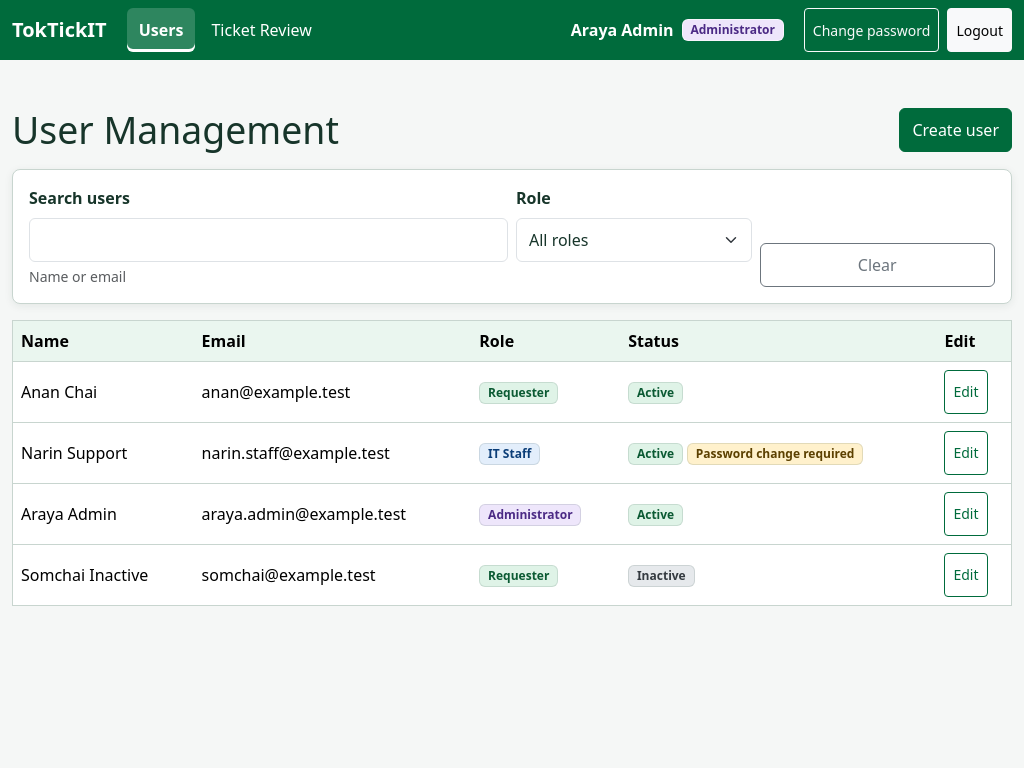
Test case: UI-07 User Management list › sends search and role filters to the API and offers Clear
Expected: the table is shown, [12, 320, 1012, 605]
Type "narin" into the search field labelled "Search users".
click(268, 240); type("narin")  # box [29, 218, 508, 262]
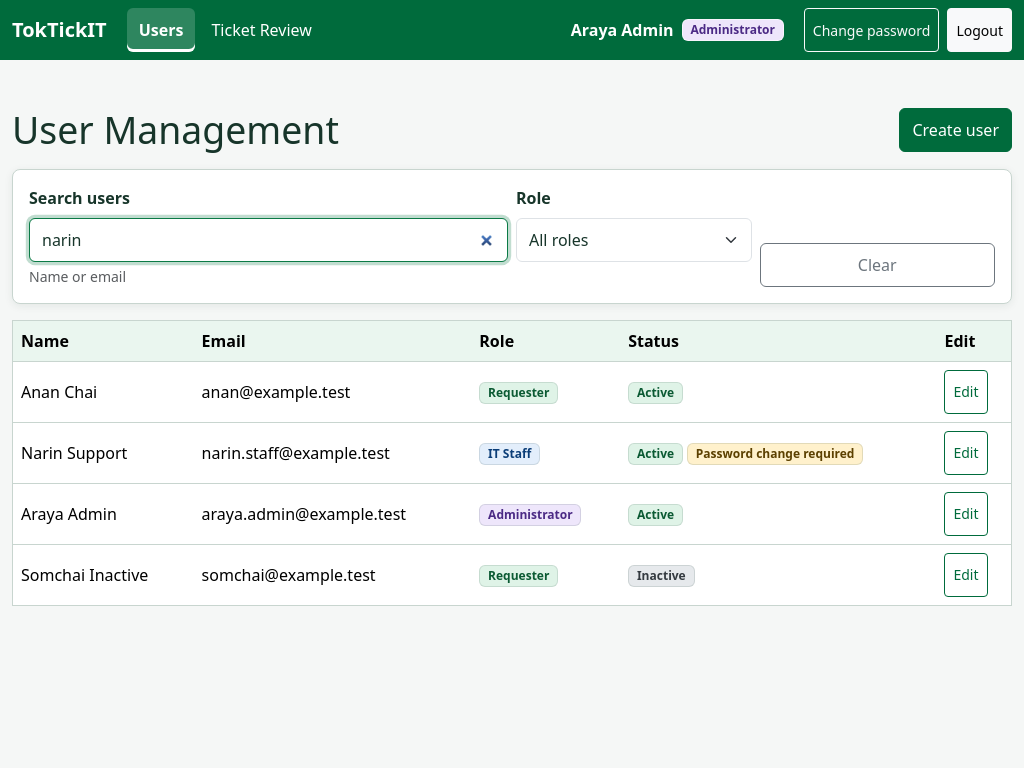
Select "IT Staff" in the dropdown labelled "Role" at (634, 240), box [516, 218, 752, 262]
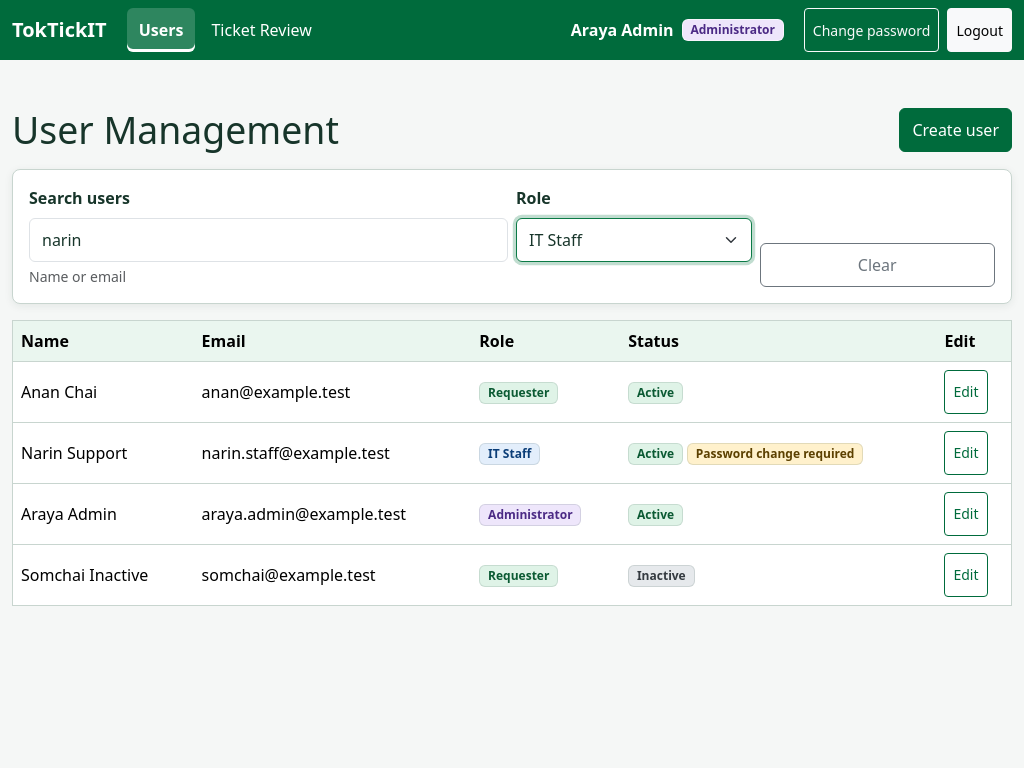
Click the button "Clear".
click(877, 265)  # box [760, 243, 995, 287]
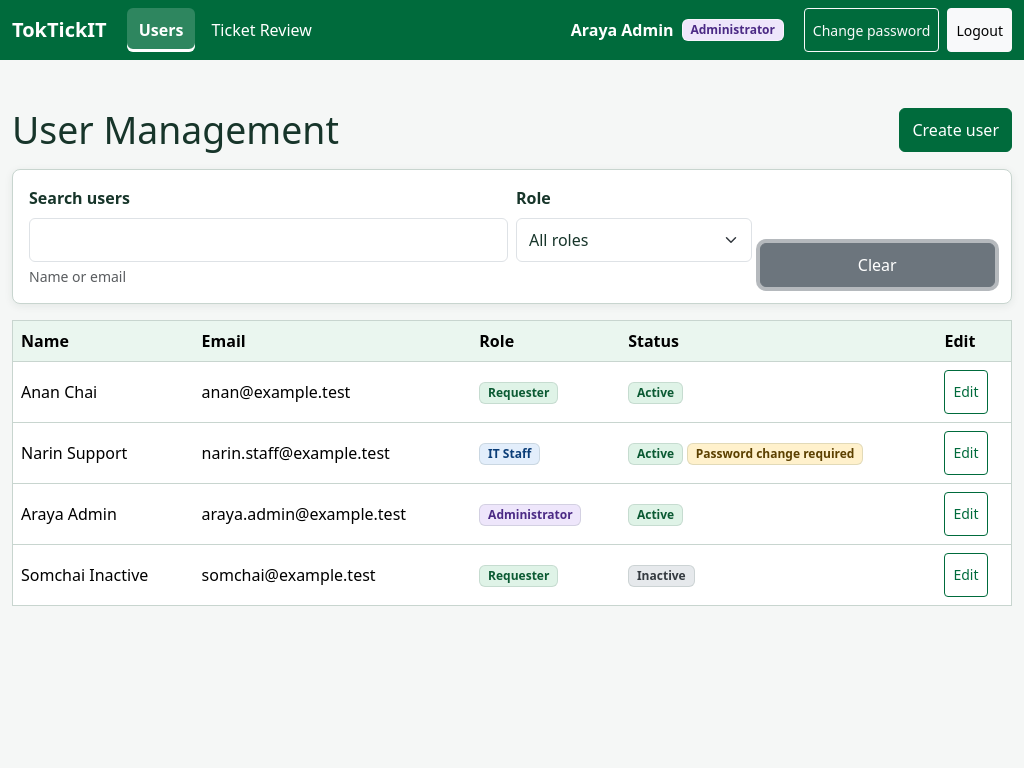
Now the search field labelled "Search users" is empty, box [29, 218, 508, 262]
